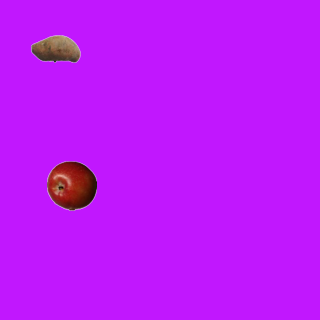Apple Braeburn: (46, 160, 96, 210)
Potato Sweet: (30, 23, 80, 73)
